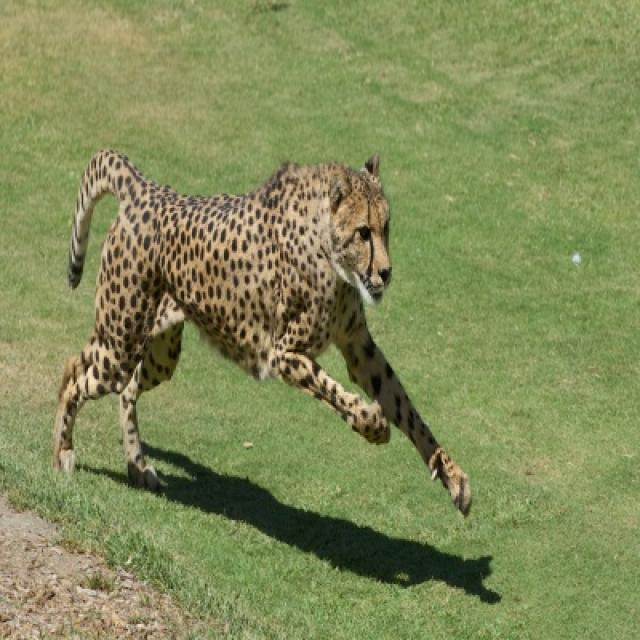Cheetah: (51, 150, 469, 510)
